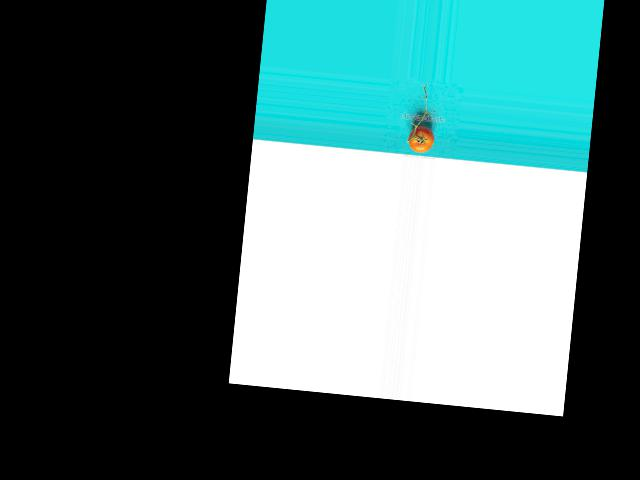tomato: (406, 125, 435, 153)
